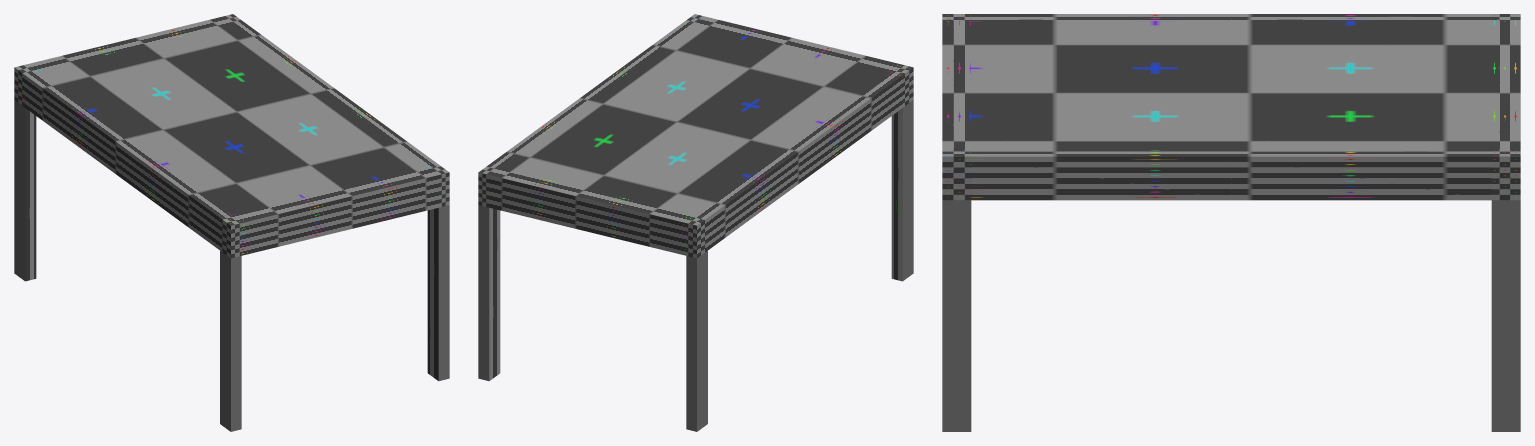
File: Table.glb
3 renders of one model, left to right at view 1: azimuth 30°, elevation 25°; view 2: azimuth 150°, elevation 25°; view 3: azimuth 270°, elevation 25°, orthographic. The views are drawn at different scales.
Parts seen in each view (by area): view 1: Cube.004; view 2: Cube.004; view 3: Cube.004.
Part boxes in pixels (box(x1,y1,x2,y2)): Cube.004: box(14, 14, 449, 431); Cube.004: box(478, 14, 913, 431); Cube.004: box(942, 14, 1520, 431).
Bounding box in the file's own units: 0.7 × 0.6308 × 1.2.
Materials: 1 (1 with a texture image).
